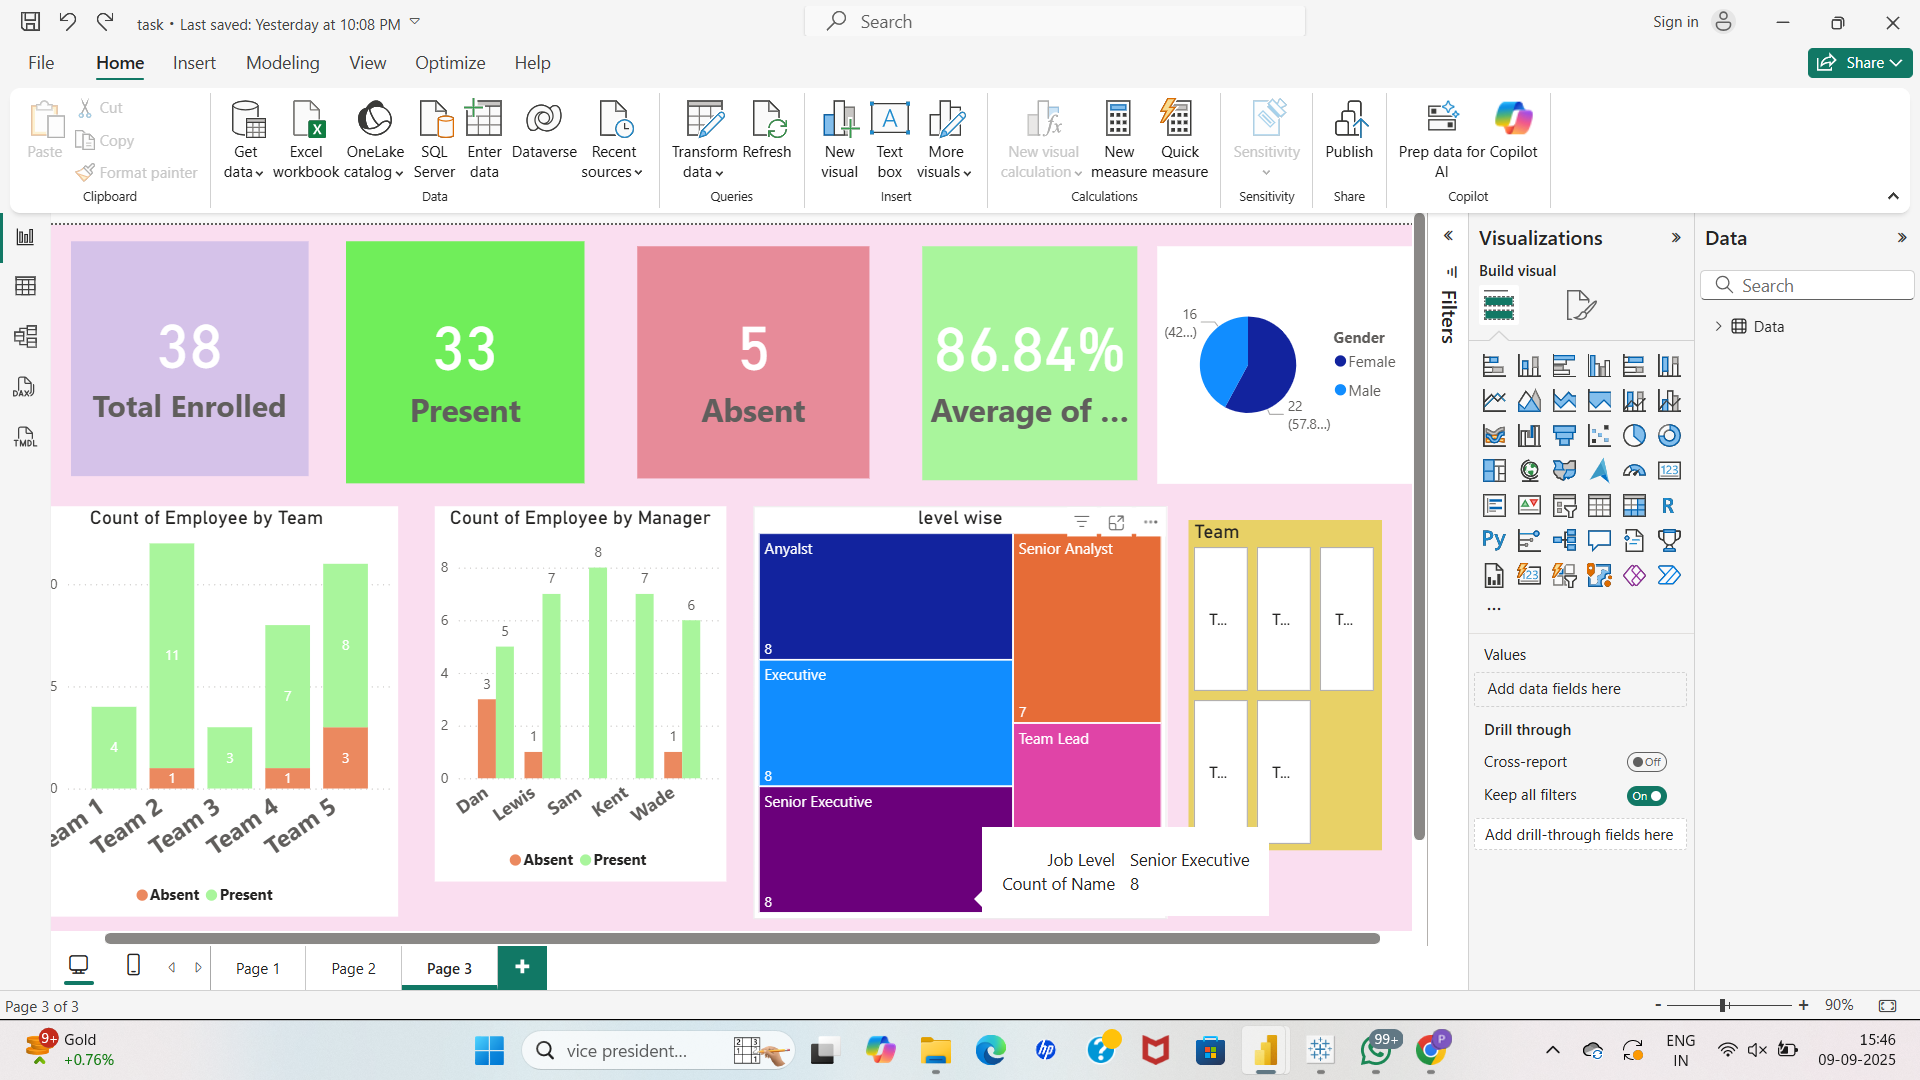

Layout of this report page (visuals, bound fields, positions):
{"tool":"powerbi","page":{"name":"Page 3","canvas":[1280,720],"ordinal":2},"visuals":[{"type":"card","fields":{"Values":["Data.Please enter your Employee ID:"]},"box":[42.5,35,235,238.8],"z":0},{"type":"card","fields":{"Values":["Data.Please enter your Employee ID:"]},"box":[315,35,235,238.8],"z":1000},{"type":"card","fields":{"Values":["Data.Please enter your Employee ID:"]},"box":[582.5,35,235,238.8],"z":2000},{"type":"card","fields":{"Values":["Data.Attendance Status"]},"box":[856.2,35,235,238.8],"z":3000},{"type":"columnChart","title":"Count of  Employee by Team","fields":{"Category":["Data.Team"],"Y":["Data.Please enter your Employee ID:"],"Series":["Data.Attendance"]},"box":[10,287.5,341.2,238.8],"z":4000},{"type":"clusteredColumnChart","title":"Count of  Employee by Manager","fields":{"Category":["Data.Senior Manager"],"Y":["Data.Please enter your Employee ID:"],"Series":["Data.Attendance"]},"box":[370,287.5,243.8,228.8],"z":5000},{"type":"pieChart","fields":{"Y":["Data.Attendance Status"],"Category":["Data.Gender"]},"box":[181.2,536.2,265,171.2],"z":6000},{"type":"treemap","title":"level wise","fields":{"Group":["Data.Job Level"],"Values":["Data.Name"]},"box":[640,287.5,451.2,231.2],"z":7000},{"type":"advancedSlicerVisual","fields":{"Values":["Data.Team"]},"box":[492.5,536.2,171.2,171.2],"z":7001}]}

Visuals, with their boxes on the page's 1280x720 design canvas (x1, y1, x2, y2). These are canvas units, not pixel positions in the 1920x1080 screenshot, which may show the page scaled, cropped or inside an application window:
card - Data.Please enter your Employee ID:: [42,35,278,274]
card - Data.Please enter your Employee ID:: [315,35,550,274]
card - Data.Please enter your Employee ID:: [582,35,818,274]
card - Data.Attendance Status: [856,35,1091,274]
"Count of  Employee by Team" columnChart: [10,288,351,526]
"Count of  Employee by Manager" clusteredColumnChart: [370,288,614,516]
pieChart - Data.Attendance Status x Data.Gender: [181,536,446,707]
"level wise" treemap: [640,288,1091,519]
advancedSlicerVisual - Data.Team: [492,536,664,707]
